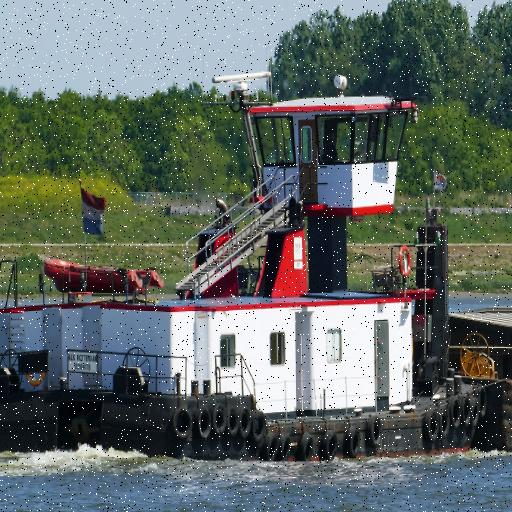tugboat: (1, 66, 497, 473)
